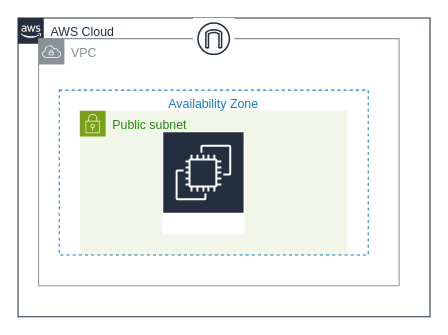
This 448x335 diagram has some shape labels left out. Each missing label, with the centre of its shape:
"Instance A" belongs at [203,182].
"Internet gateway" belongs at [213,38].
